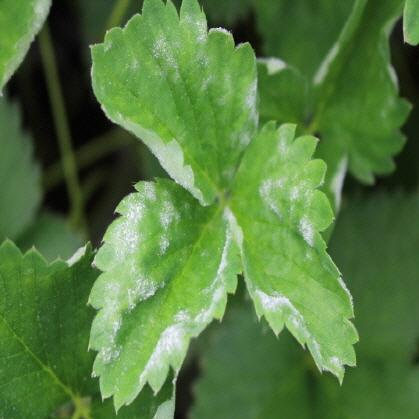Powdery Mildew Leaf: (86, 176, 243, 415), (222, 116, 360, 386), (86, 0, 258, 208), (0, 0, 54, 100)
